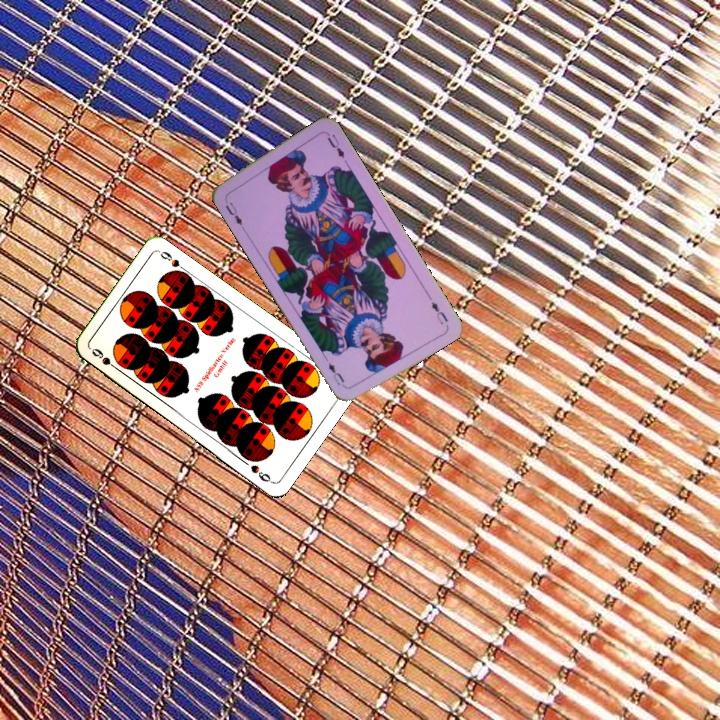EU: (220, 194, 246, 231), (427, 297, 451, 328)
S9: (87, 344, 123, 374)
